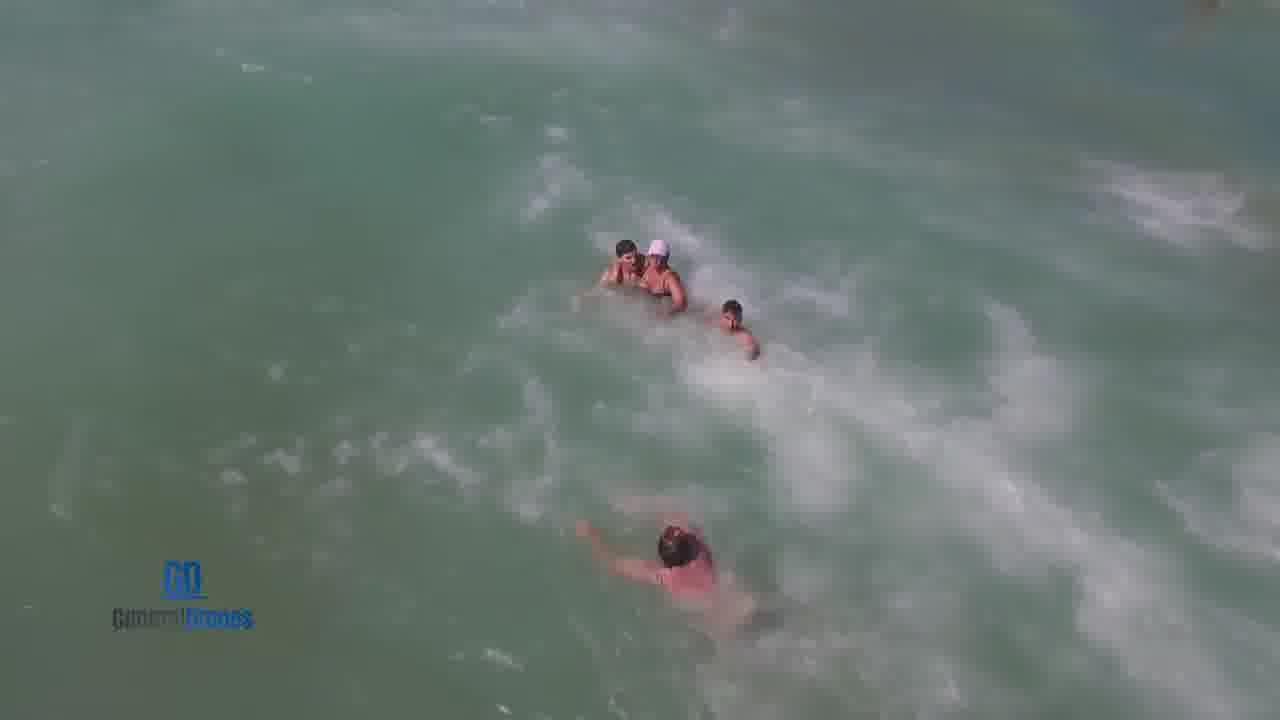human: (570, 476, 732, 603), (571, 226, 693, 326), (700, 289, 769, 366)
